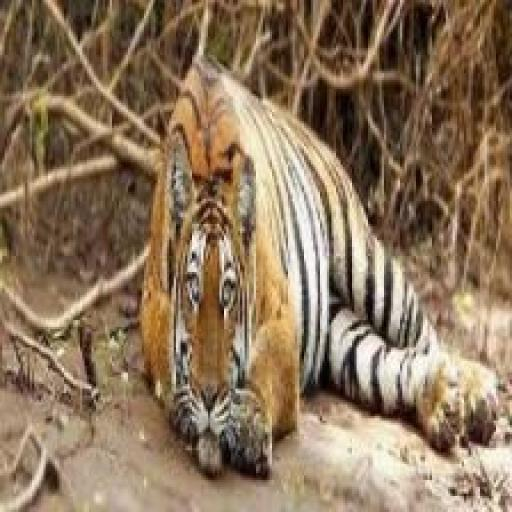Tiger: (126, 36, 499, 484)
